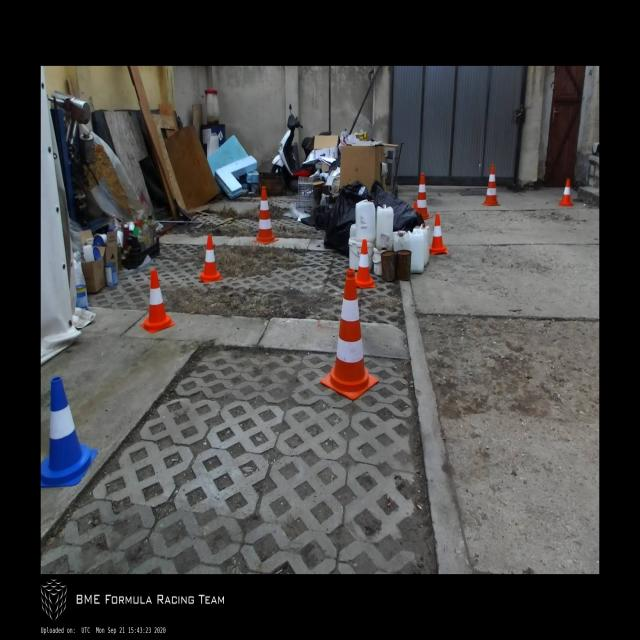blue_cone: (41, 378, 98, 487)
large_orange_cone: (320, 269, 378, 400), (252, 186, 279, 245), (482, 164, 501, 206), (416, 174, 432, 219)
orange_cone: (141, 270, 175, 334), (198, 235, 223, 283), (355, 239, 376, 289), (430, 214, 448, 255), (558, 178, 574, 206)
